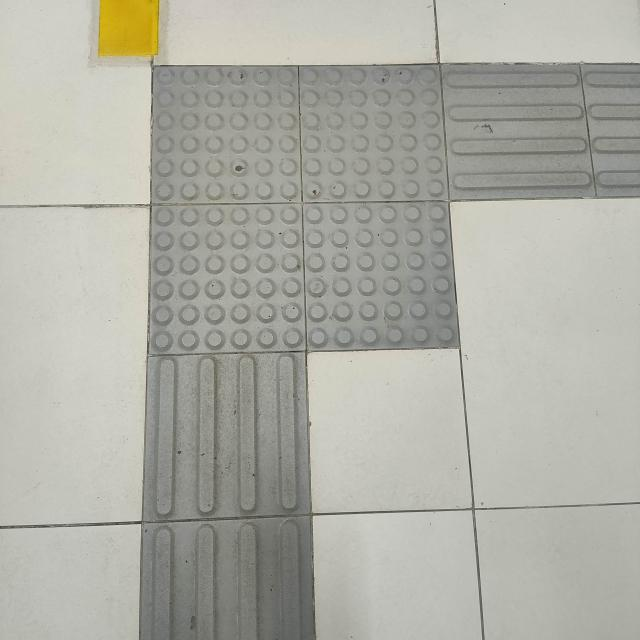kanan: (92, 45, 640, 435)
